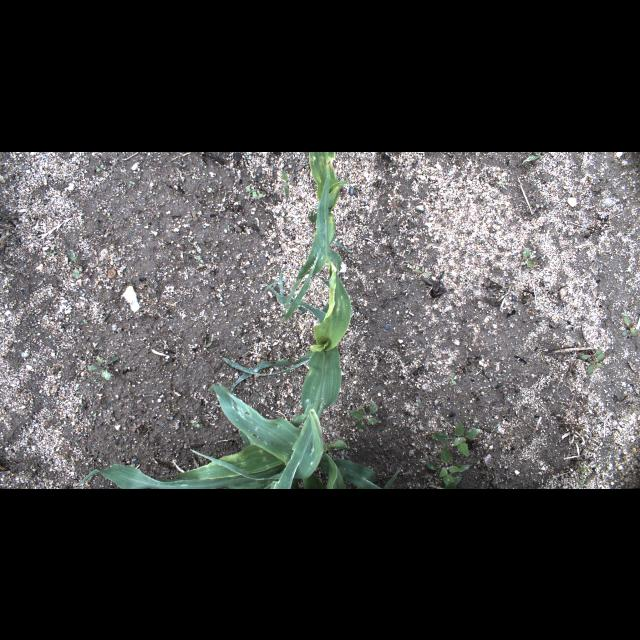crop: (77, 382, 401, 488), (222, 259, 352, 486), (265, 151, 353, 319)
weed: (426, 444, 470, 488), (431, 421, 481, 457), (348, 402, 378, 430), (89, 354, 118, 380), (580, 348, 606, 374), (578, 464, 604, 488), (622, 311, 636, 337), (70, 249, 80, 277), (280, 168, 290, 196), (414, 264, 432, 278), (523, 247, 535, 267), (245, 186, 265, 197), (522, 152, 544, 162), (186, 208, 197, 222), (191, 416, 199, 428), (450, 371, 456, 385), (96, 162, 104, 172), (197, 255, 205, 263), (46, 249, 56, 255), (130, 180, 134, 184)
